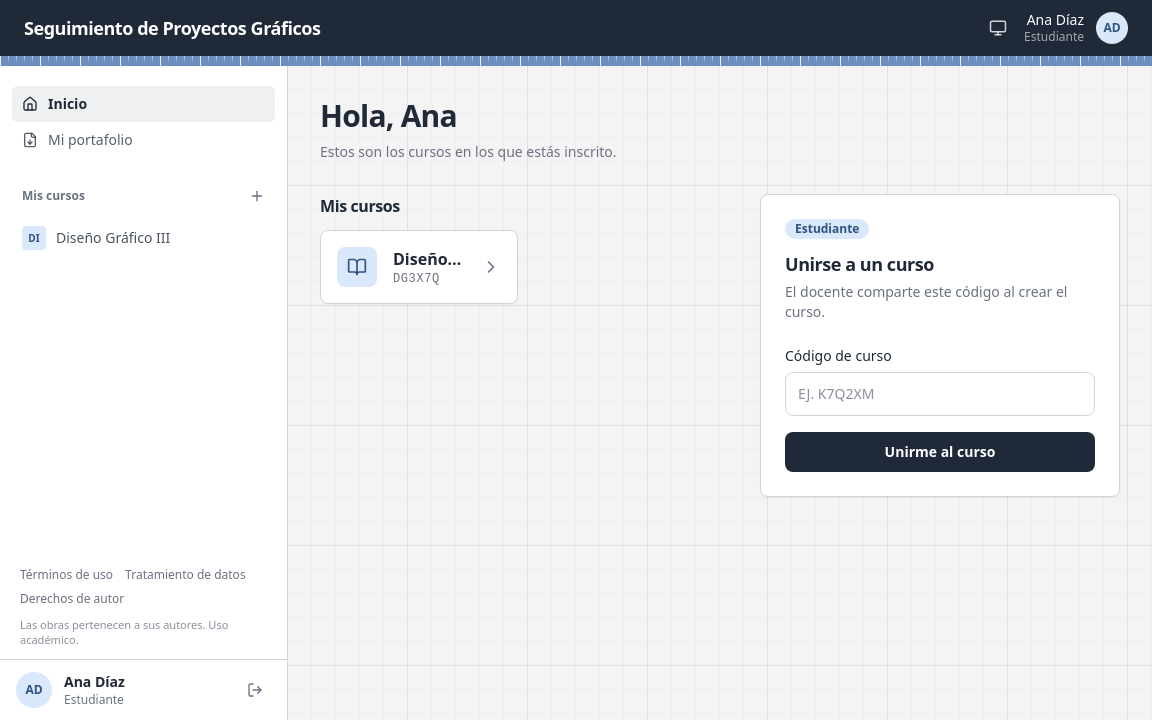
CourseOnboardingPage › al estudiante le muestra el error del backend si el código no existe
The width and height of the screenshot is (1152, 720).
Type "xxxxxx" into the field labelled "Código de curso" at {"x": 940, "y": 394}, box [785,372,1095,416]
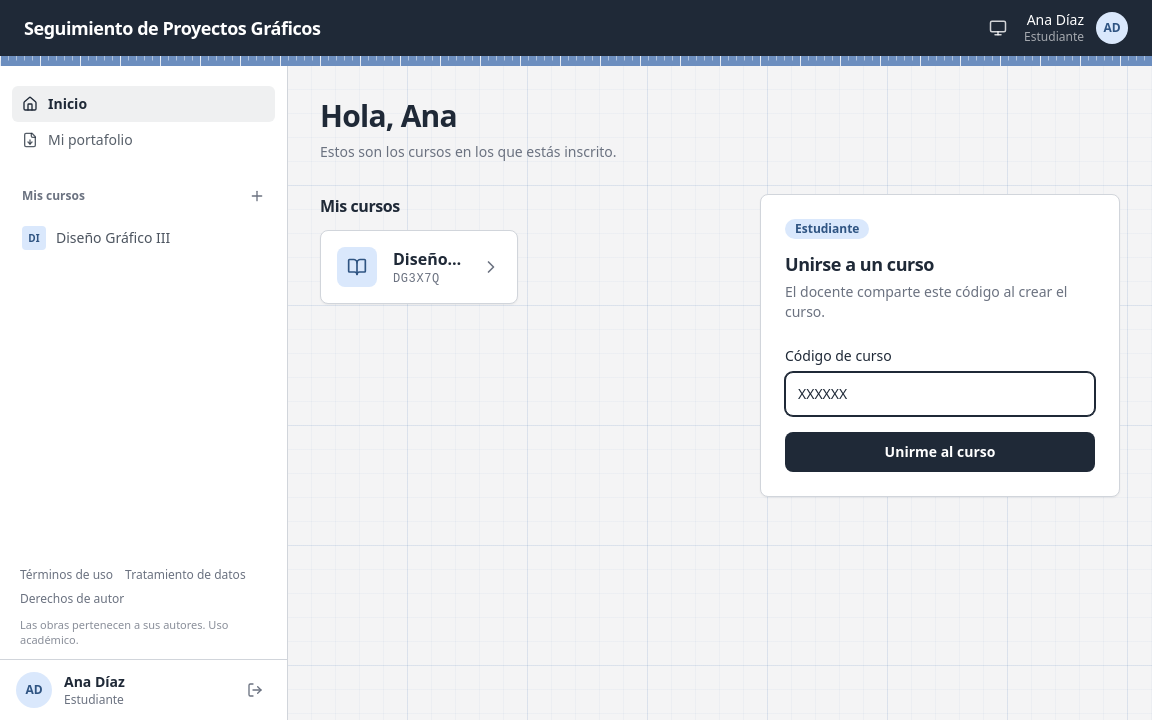
Click the button "Unirme al curso" at {"x": 940, "y": 452}, box [785,432,1095,472]
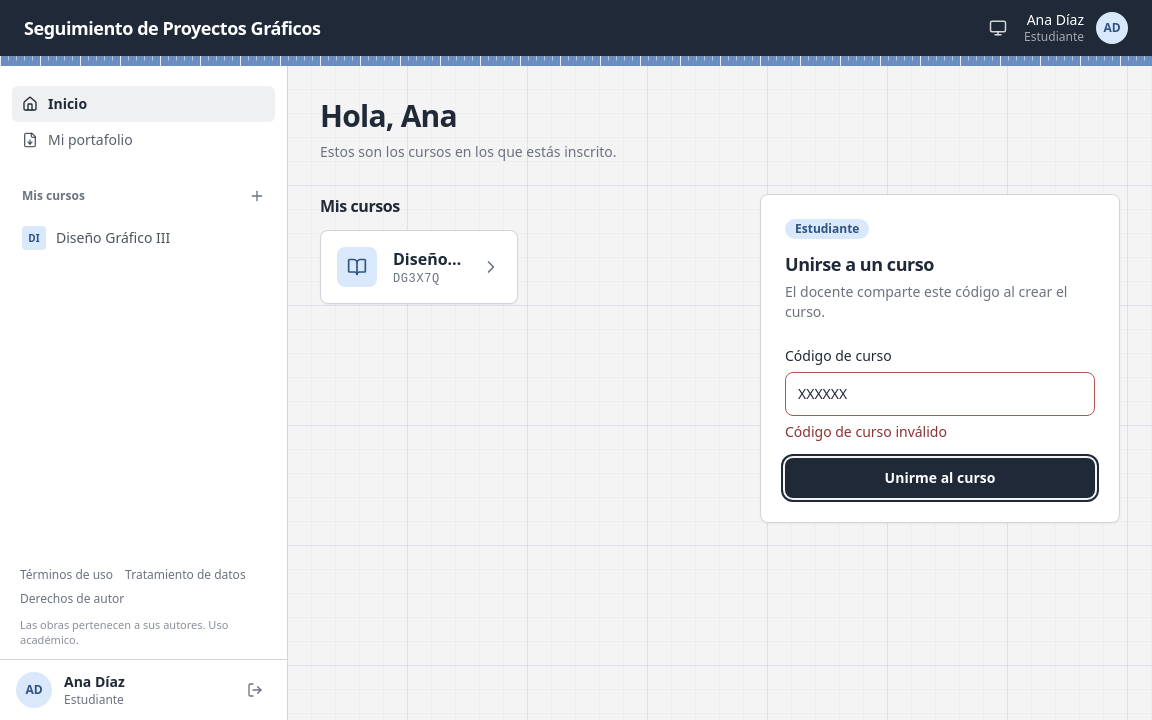
Now the text "Código de curso inválido" is shown, box [785,422,947,440]
